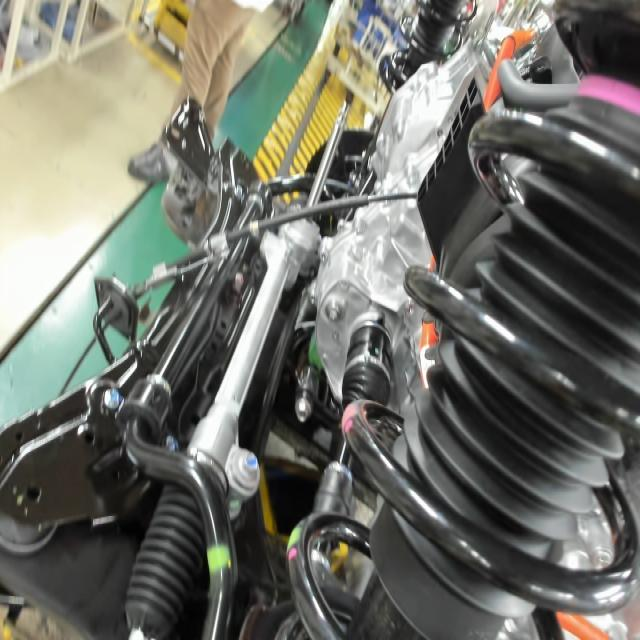Bar Stabilizer-HJ: (201, 539, 234, 578)
Bumper-PK: (565, 62, 640, 122)
